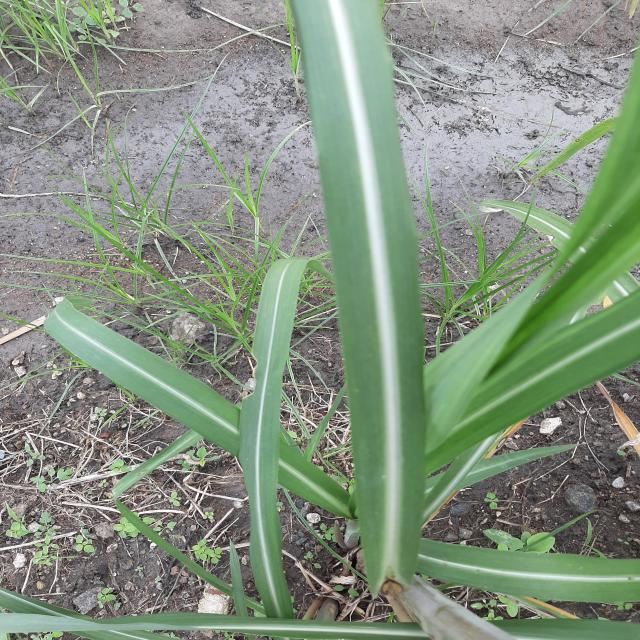Sugarcane: (1, 3, 638, 638)
